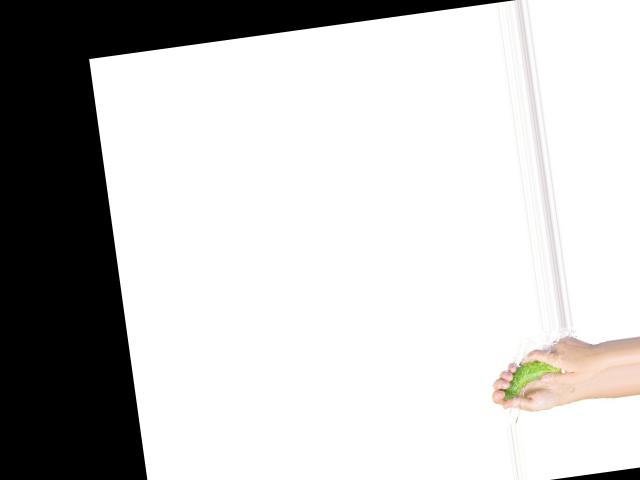cucumber: (498, 356, 565, 400)
